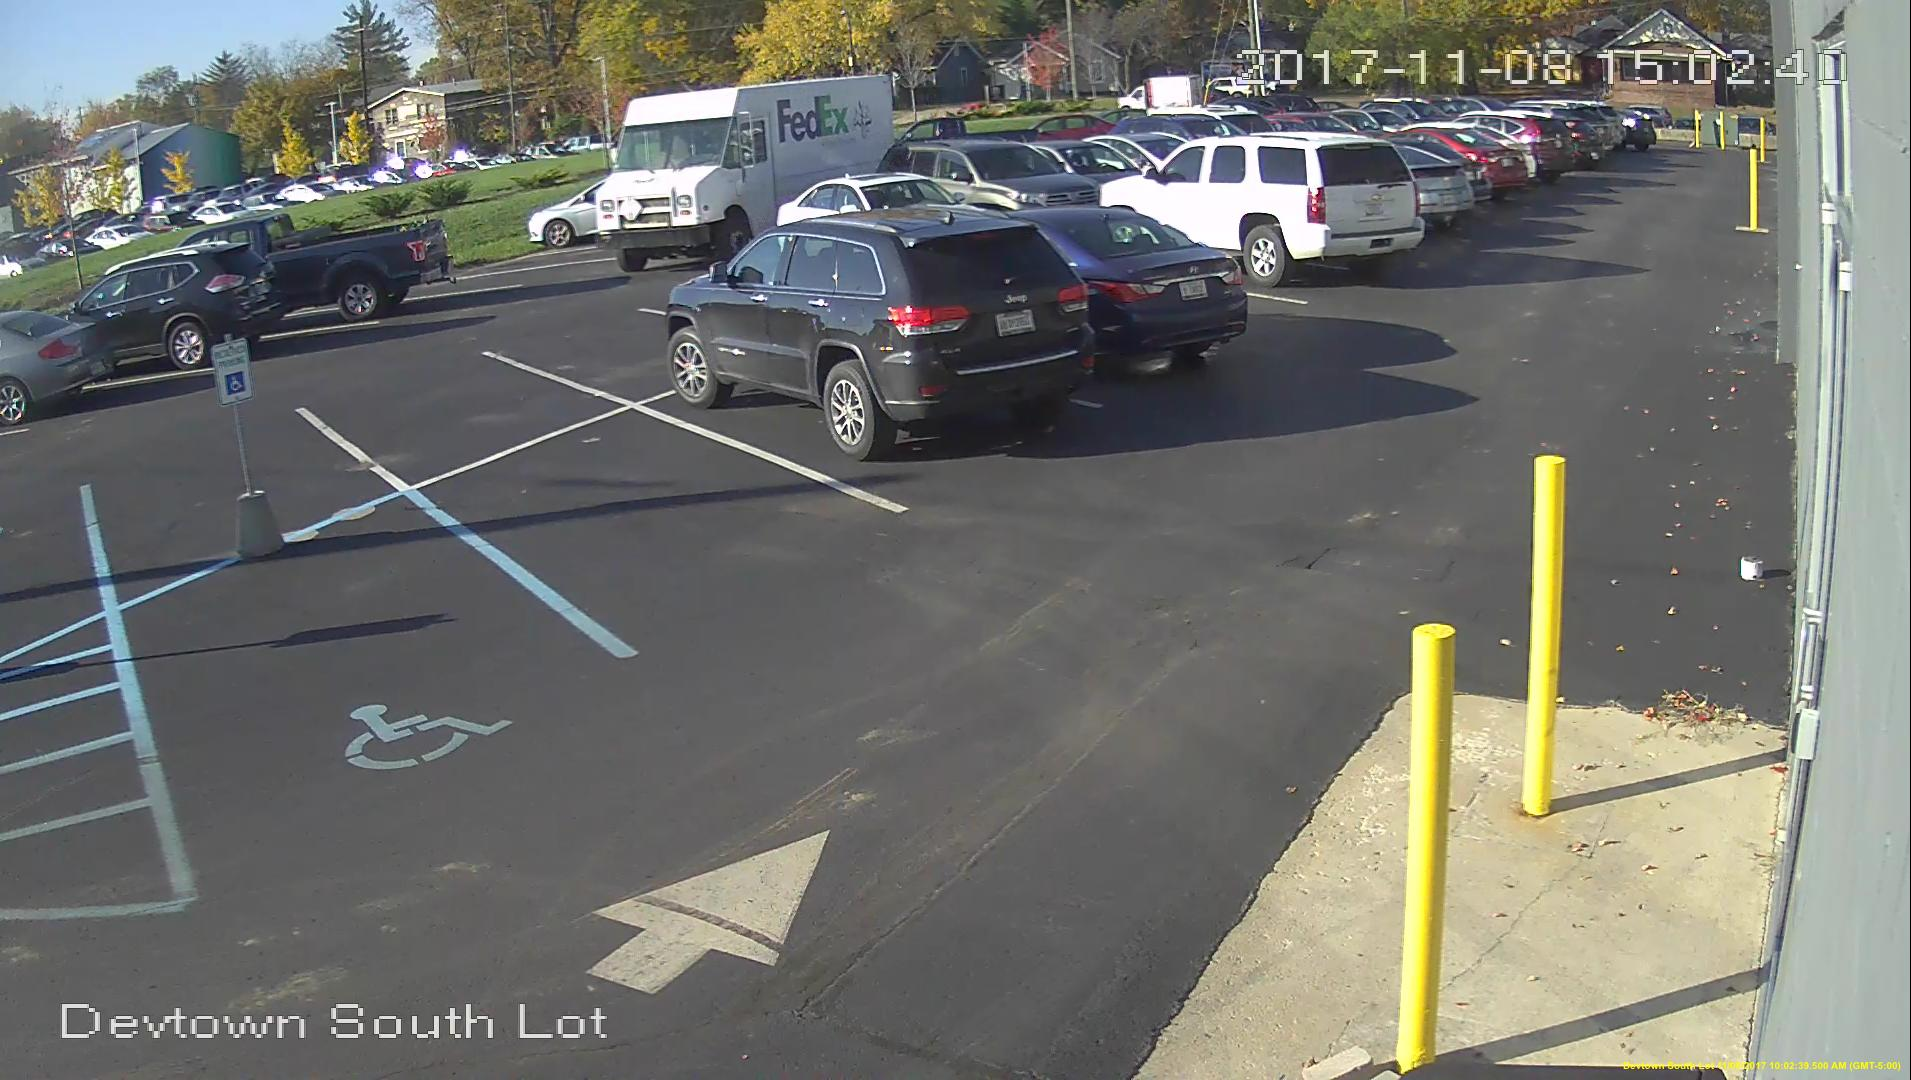fedex_truck: (585, 68, 903, 272)
